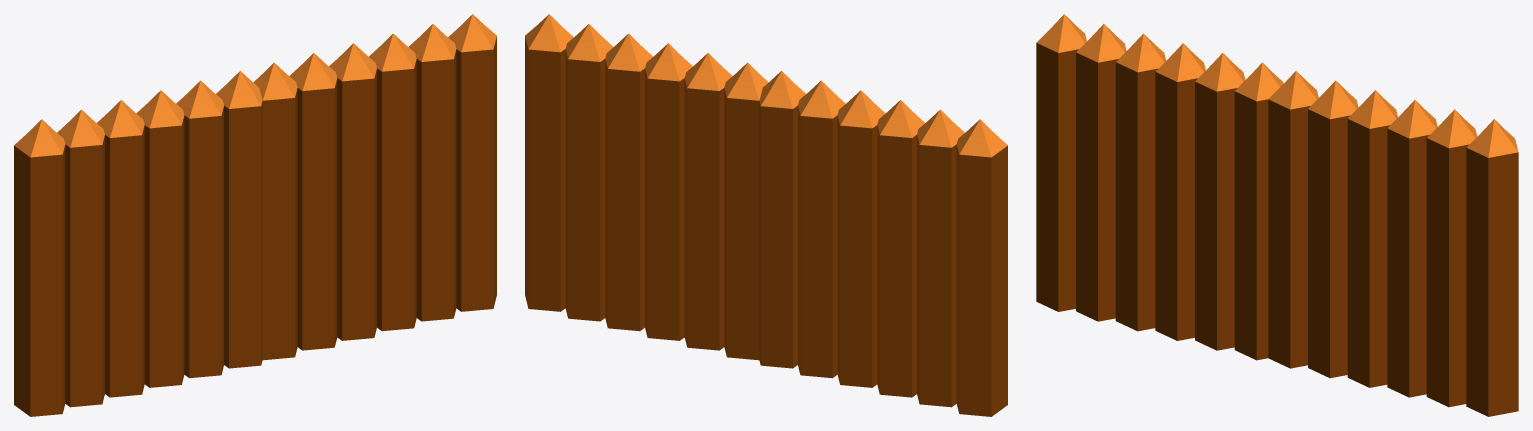
File: MURO_FUERTE.FBX
3 views of the same model, side by side, from view 1: azimuth 30°, elevation 25°; view 2: azimuth 150°, elevation 25°; view 3: azimuth 330°, elevation 25° (orthographic).
Parts seen in each view (by area): view 1: Cylinder001_Part_3, Cylinder001_Part_1, Cylinder001_Part_2, Cylinder001_Part_4, Cylinder001_Part_5; view 2: Cylinder001_Part_3, Cylinder001_Part_1, Cylinder001_Part_2, Cylinder001_Part_4, Cylinder001_Part_5; view 3: Cylinder001_Part_2, Cylinder001_Part_3, Cylinder001_Part_1, Cylinder001_Part_4, Cylinder001_Part_5.
Boxes of the visible parts, left/top/right/bottom form: Cylinder001_Part_3: left=104, top=62, right=304, bottom=387; Cylinder001_Part_1: left=224, top=53, right=444, bottom=368; Cylinder001_Part_2: left=320, top=14, right=496, bottom=319; Cylinder001_Part_4: left=14, top=83, right=198, bottom=326; Cylinder001_Part_5: left=14, top=305, right=145, bottom=416; Cylinder001_Part_3: left=717, top=62, right=916, bottom=387; Cylinder001_Part_1: left=576, top=53, right=797, bottom=368; Cylinder001_Part_2: left=525, top=14, right=701, bottom=319; Cylinder001_Part_4: left=822, top=84, right=1007, bottom=325; Cylinder001_Part_5: left=870, top=305, right=1007, bottom=416; Cylinder001_Part_2: left=1341, top=88, right=1518, bottom=416; Cylinder001_Part_3: left=1115, top=53, right=1318, bottom=350; Cylinder001_Part_1: left=1234, top=80, right=1442, bottom=404; Cylinder001_Part_4: left=1036, top=14, right=1217, bottom=243; Cylinder001_Part_5: left=1036, top=202, right=1155, bottom=331.
Size of the model in its own units: 43.75 by 25.28 by 4.26.
